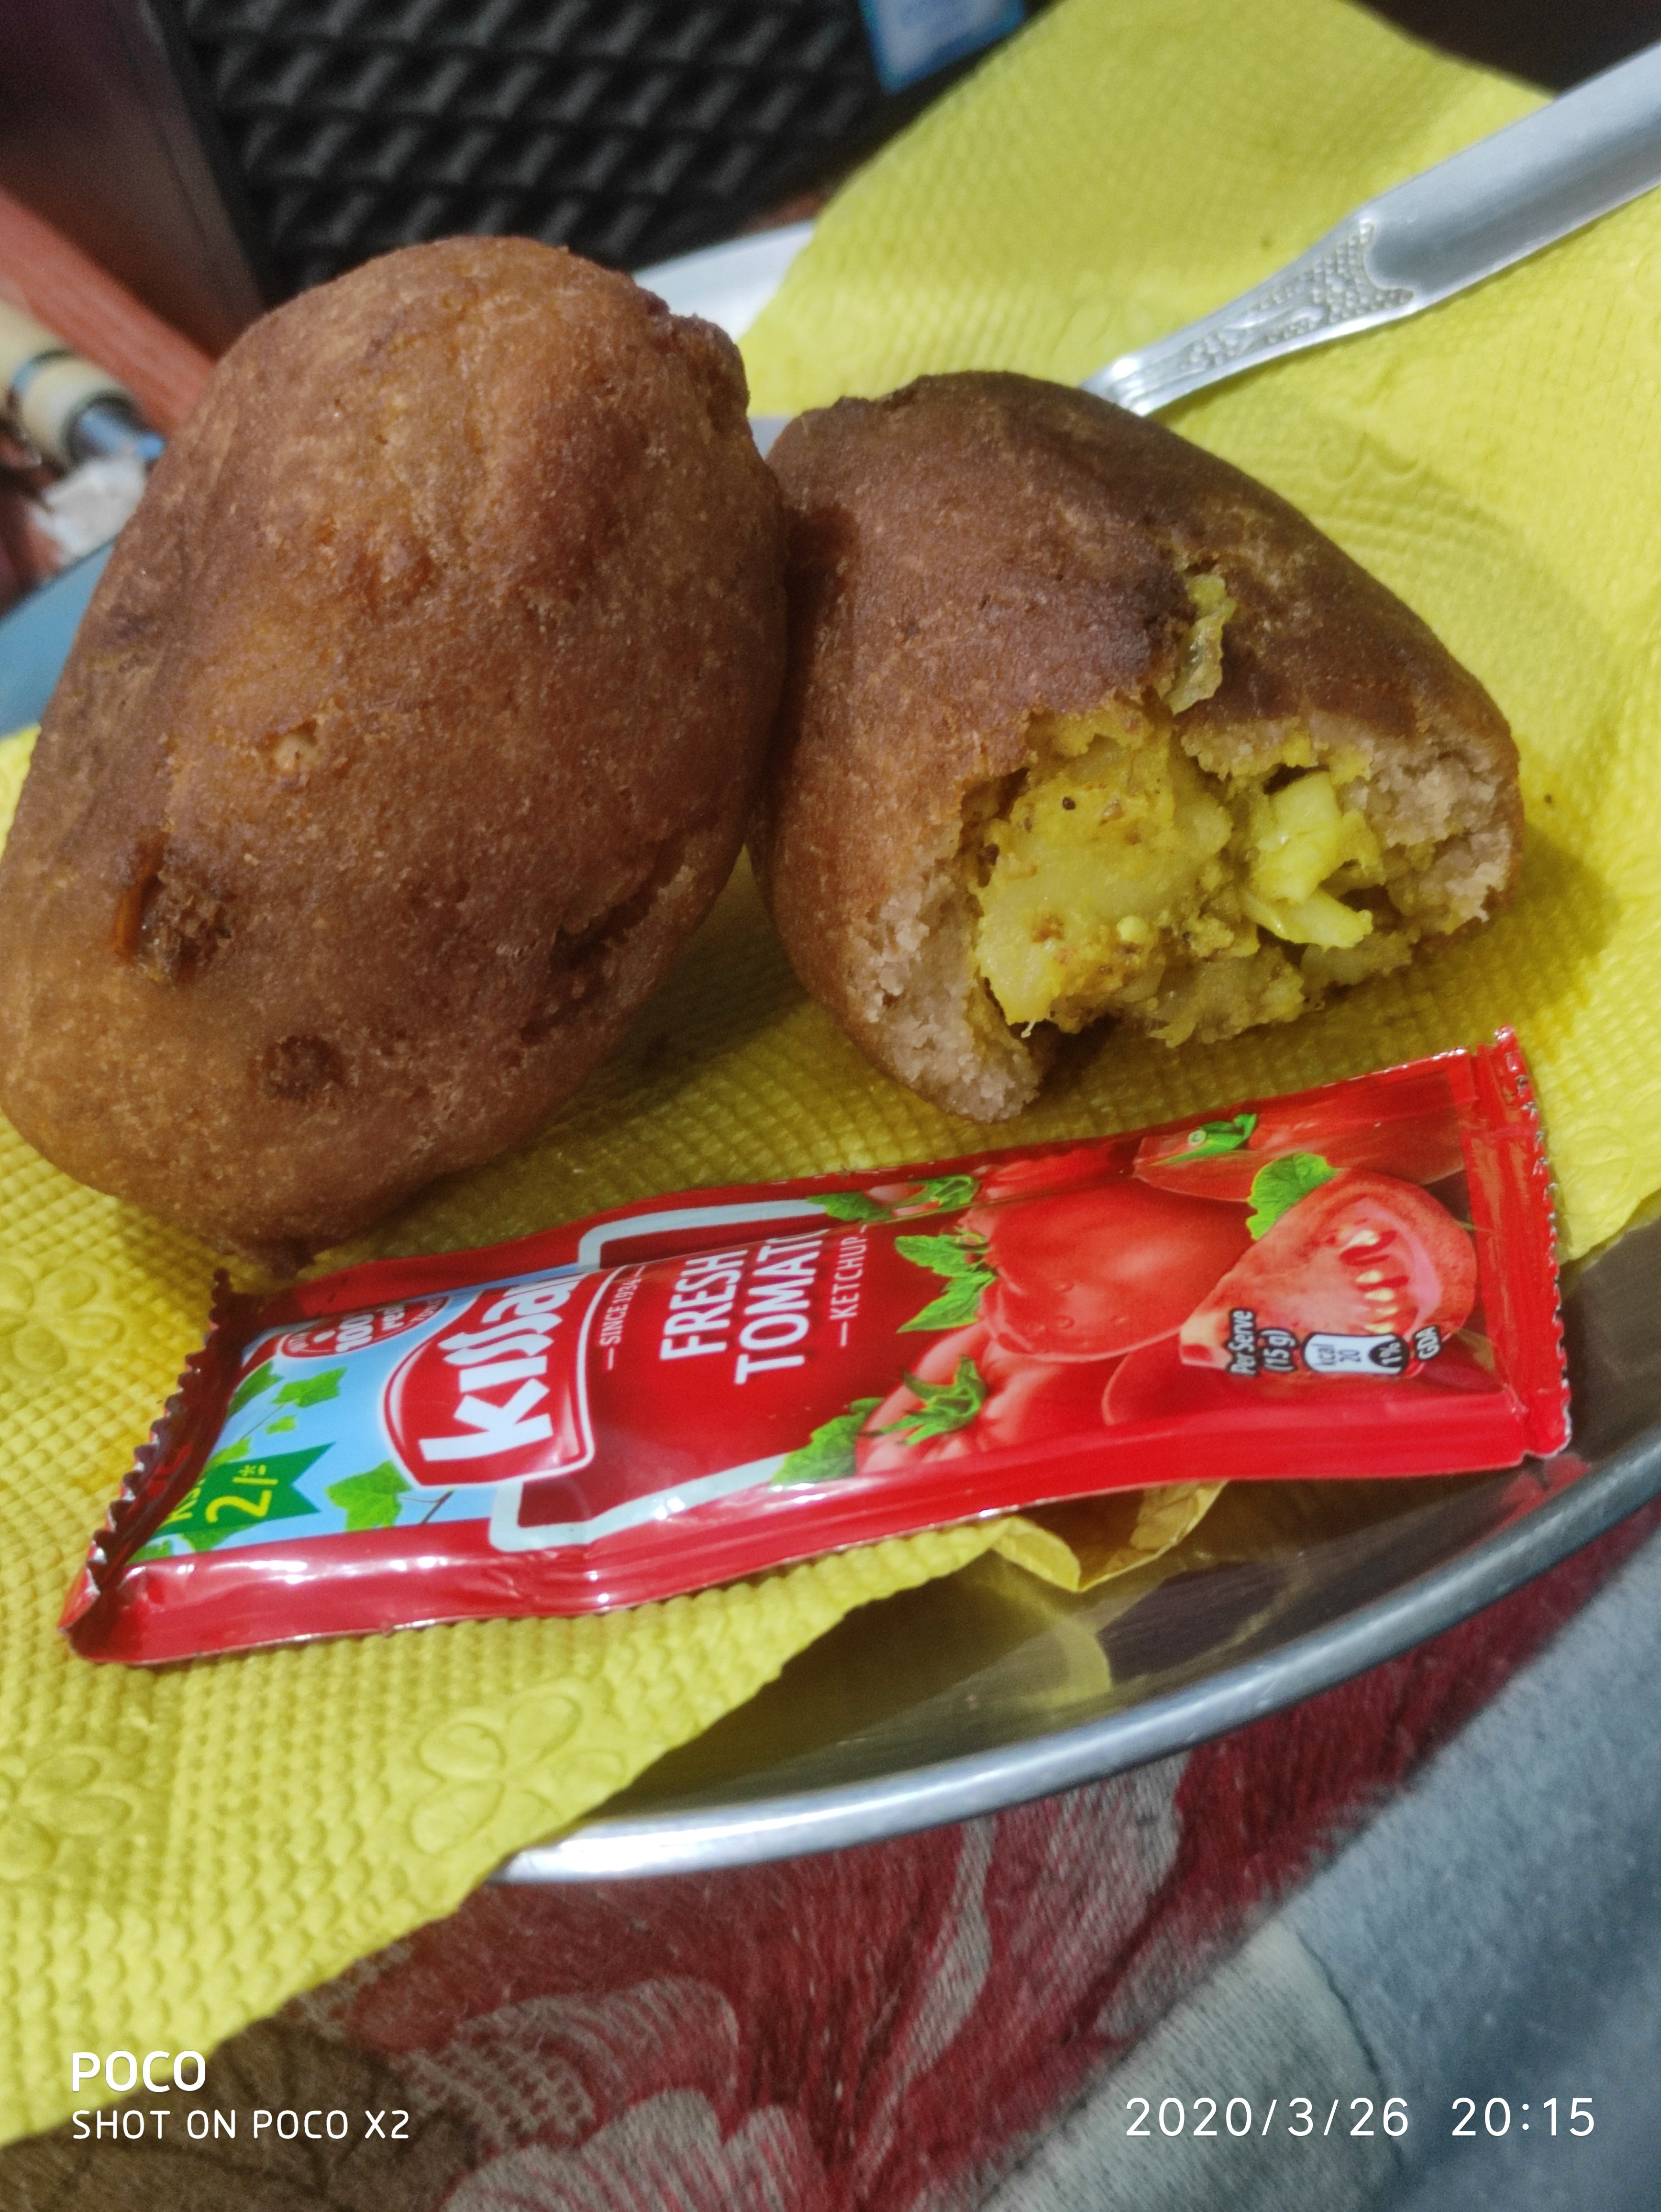food: (0, 223, 1584, 1678)
